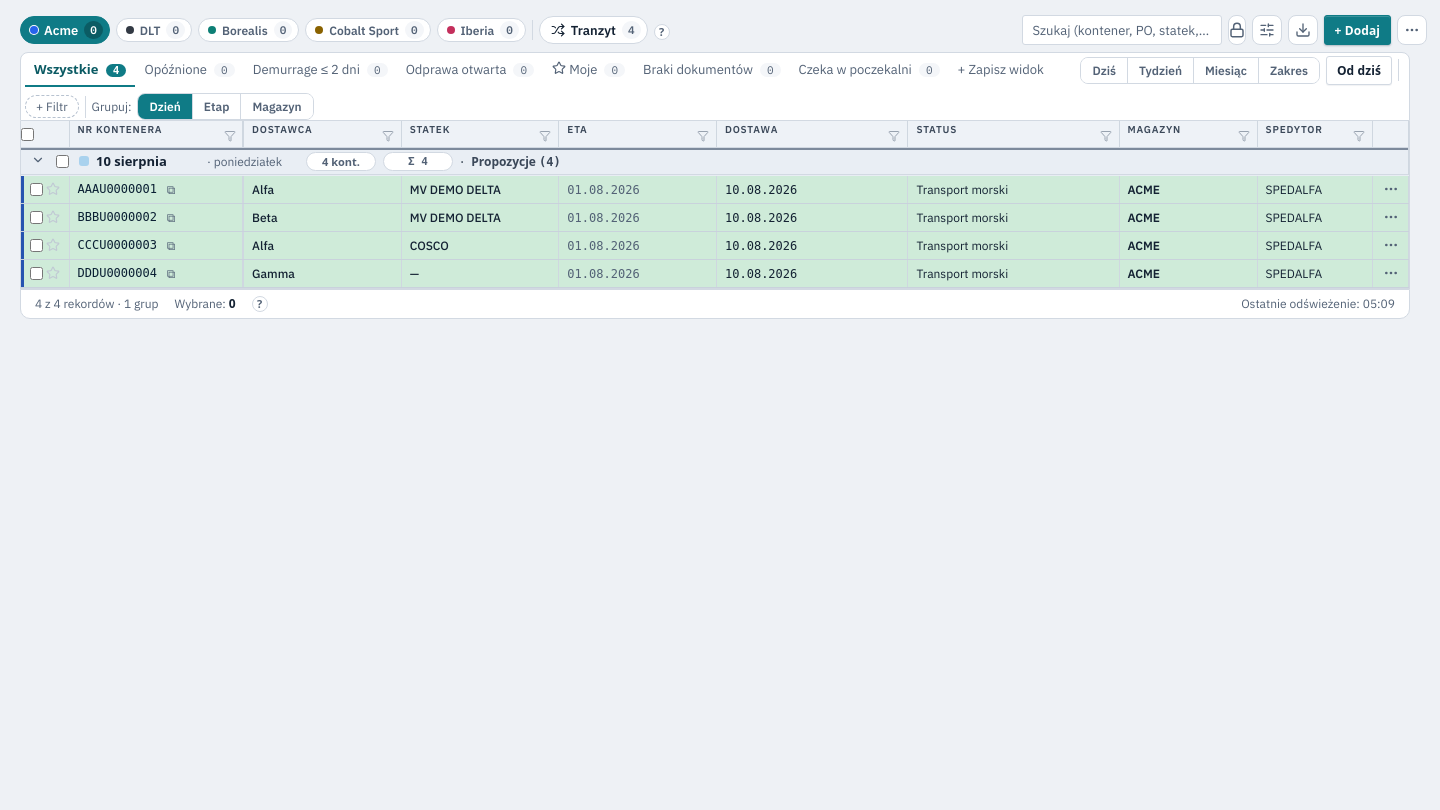
Scenario: kolejka — filtry w nagłówkach kolumn (Excel) › Escape zamyka panel bez zmian i oddaje fokus lejkowi
Check: the text "AAAU0000001" is shown, box [78,182,157,196]
Step 1. Click the button named "Filtruj: Statek" → (545, 136), box [536,127,554,145]
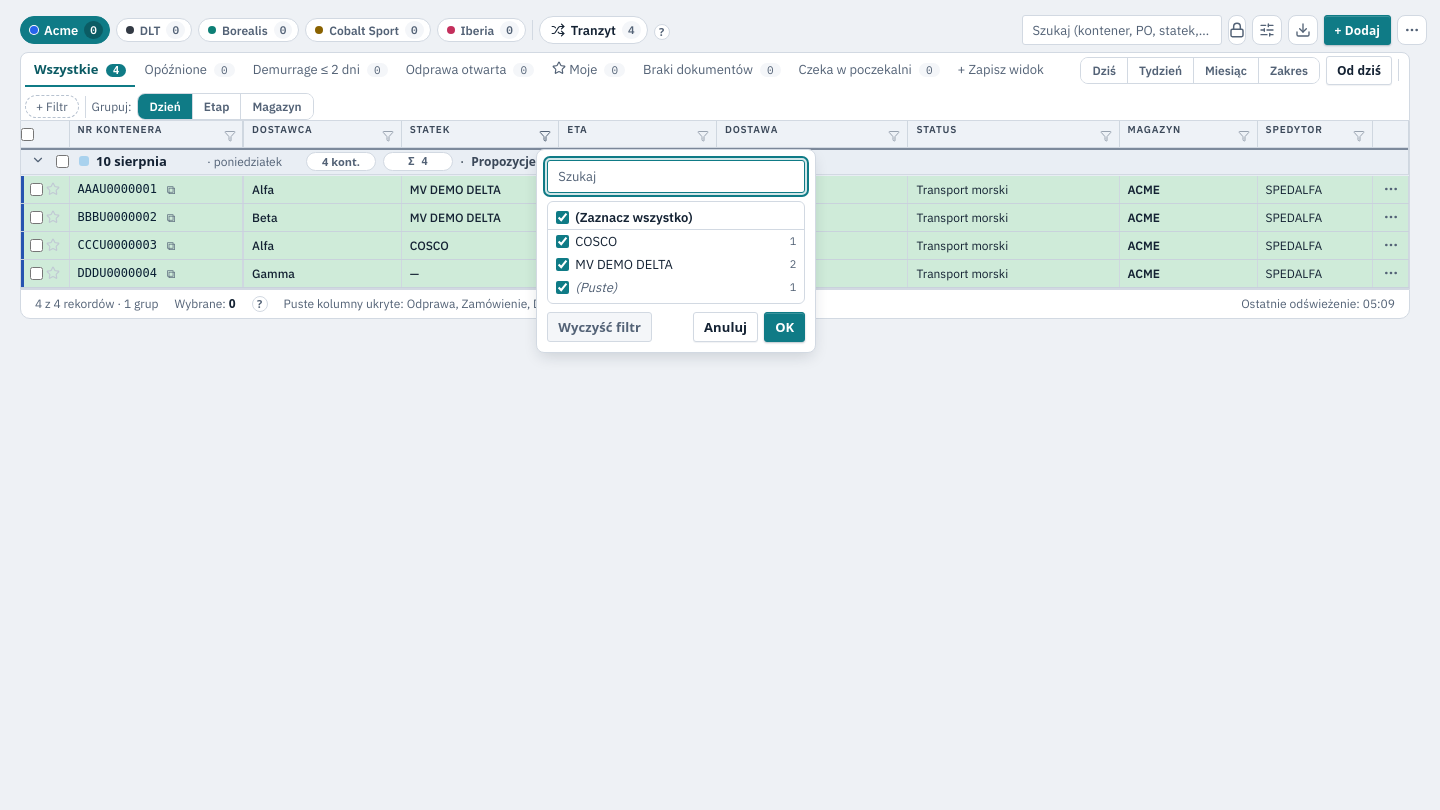
Step 2. Click the text "COSCO" below "(Zaznacz wszystko)" → (596, 241), box [575,233,617,250]
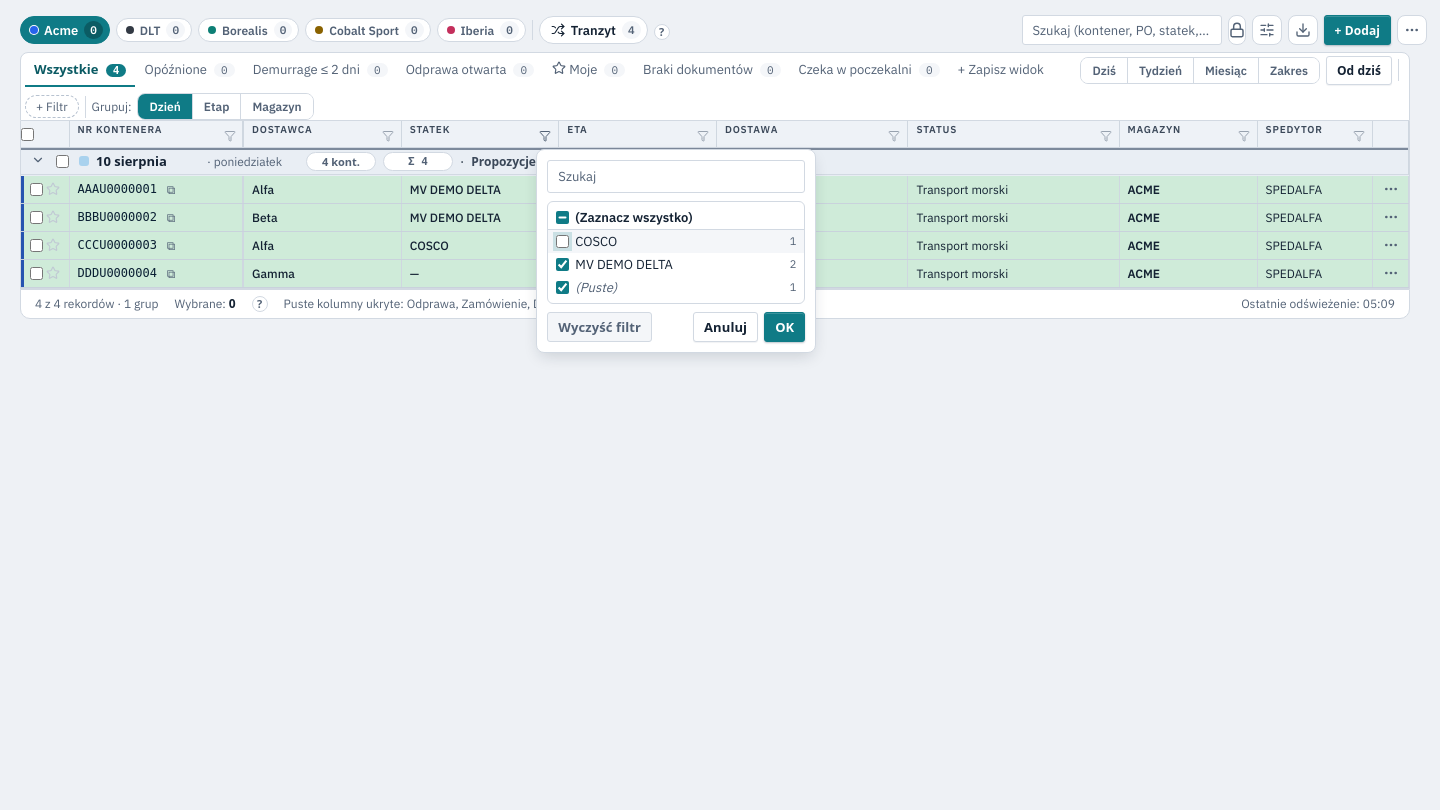
Step 3. Press Escape in the search field, box [547,160,805,193]
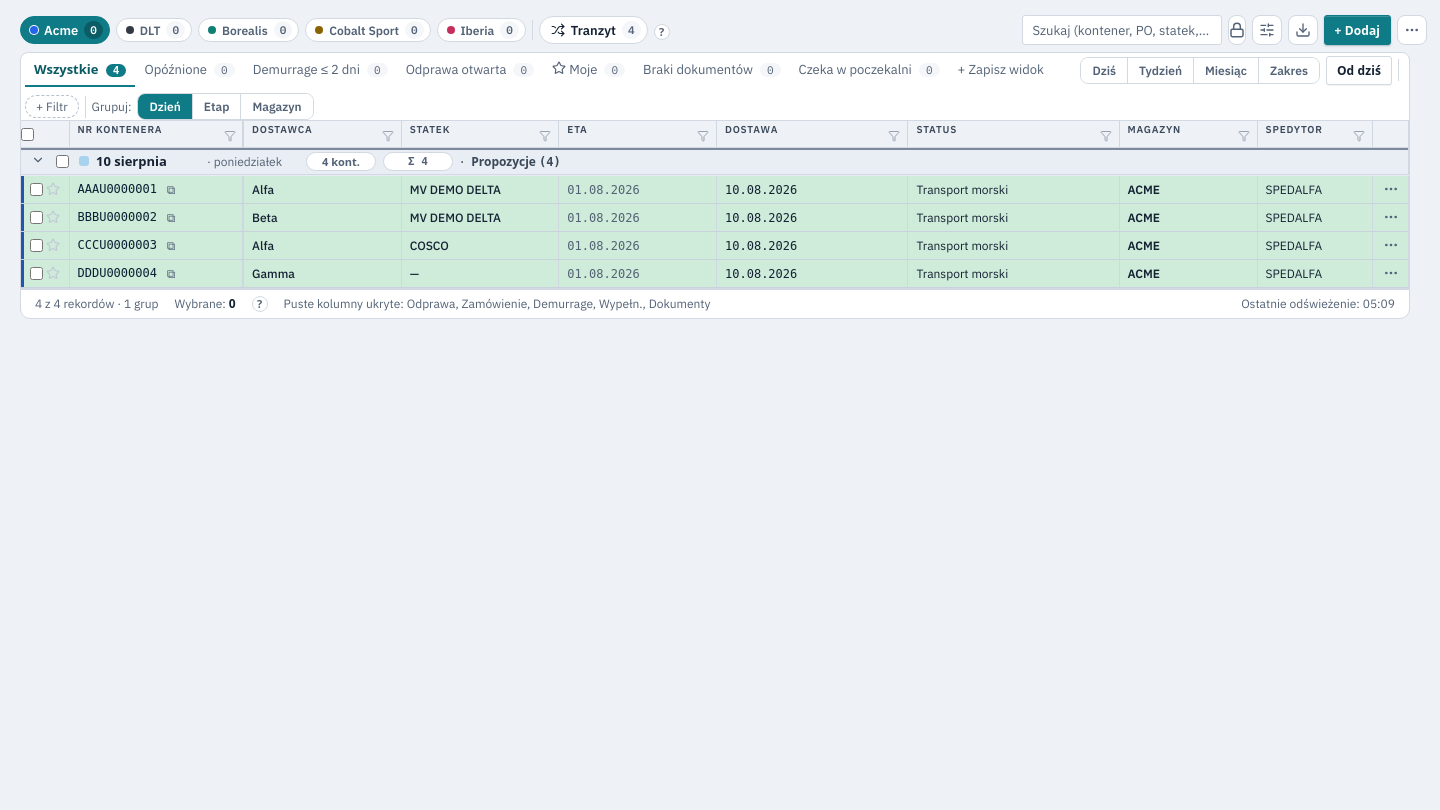
Check: the dialog is gone
